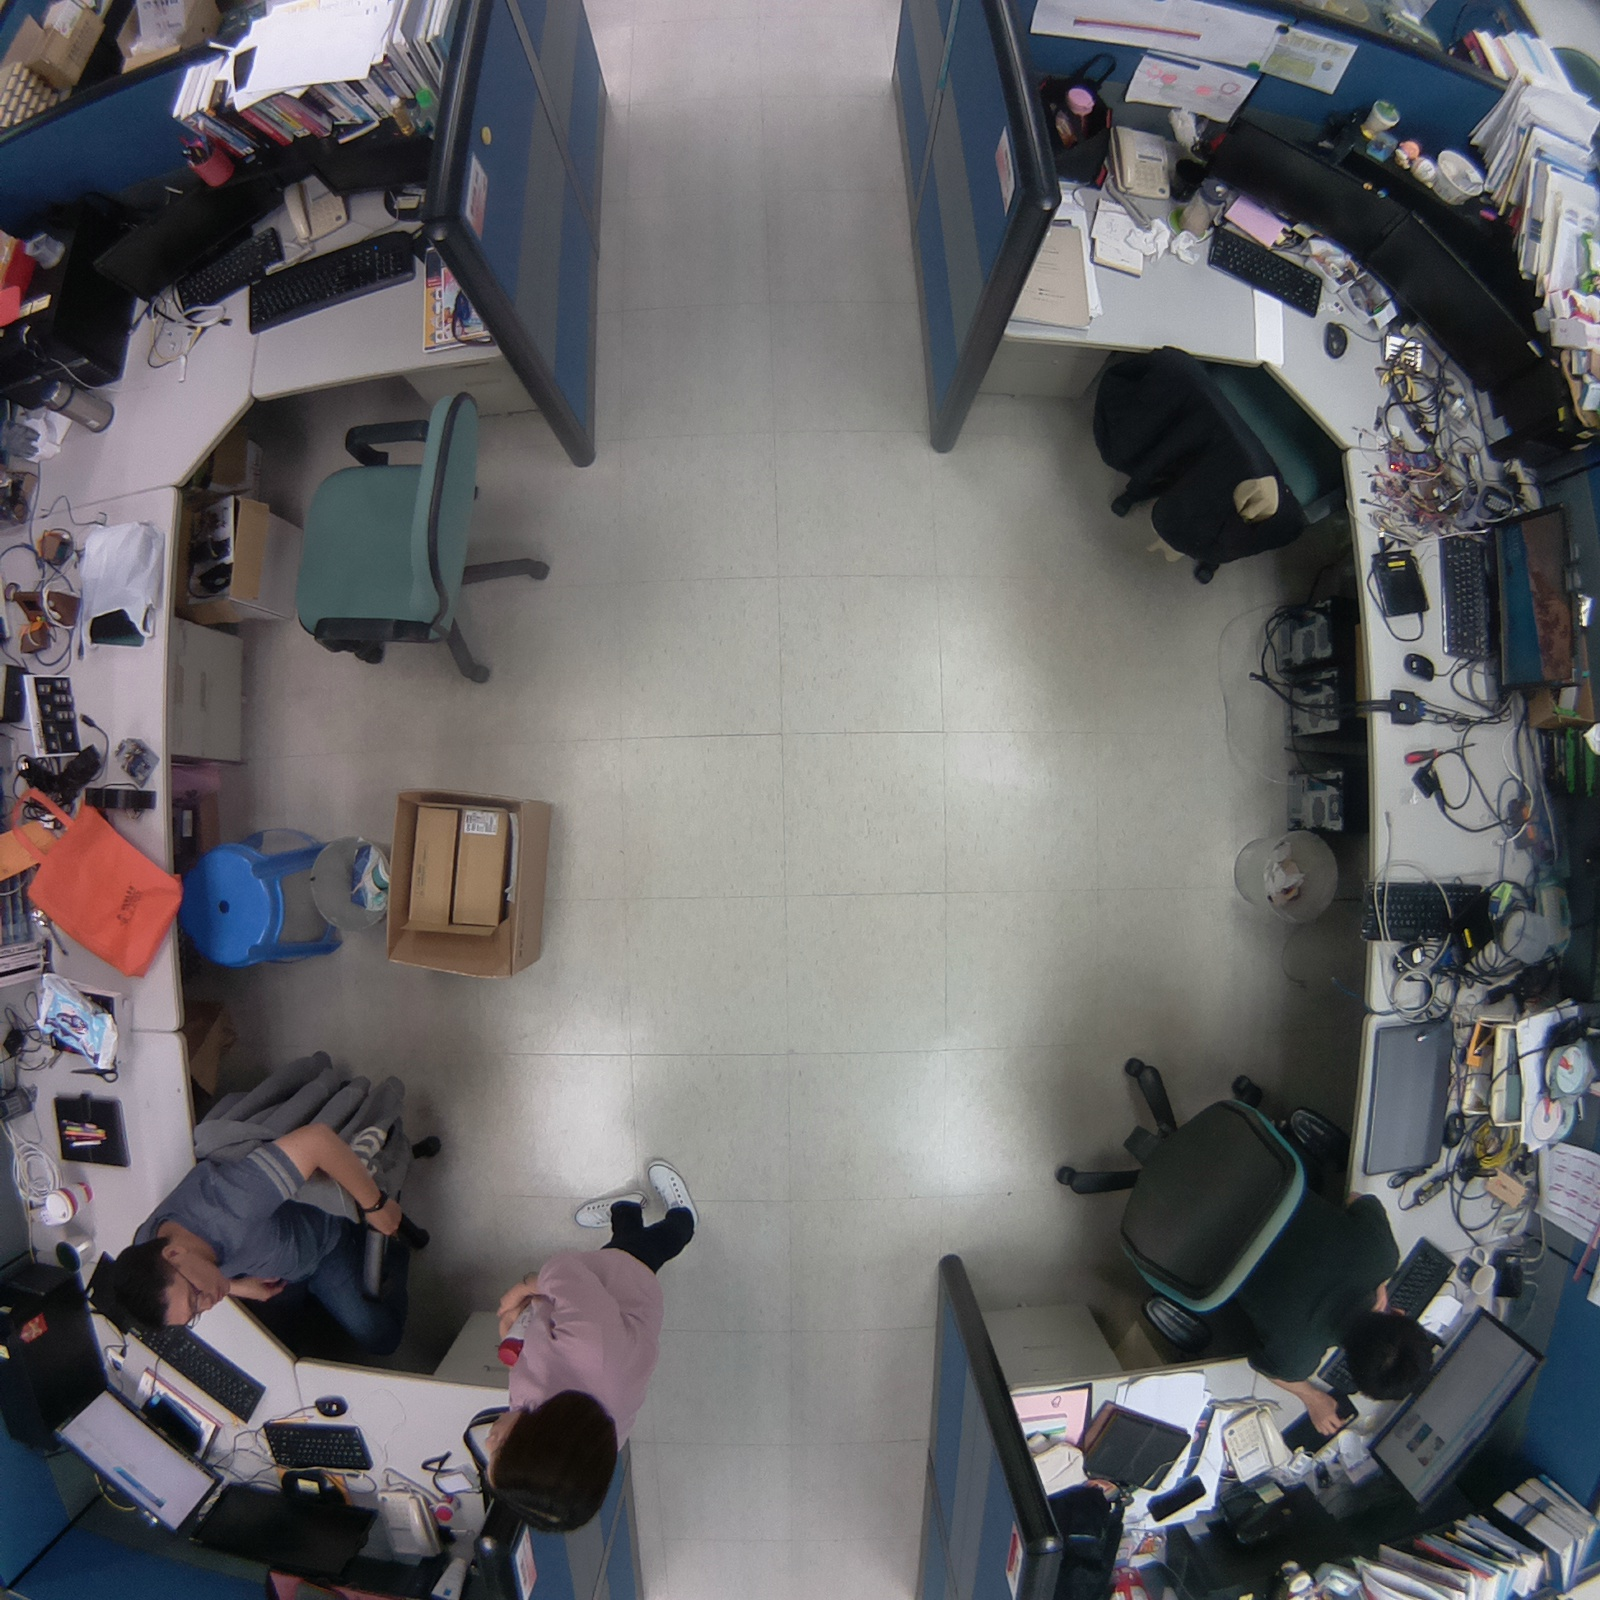chair: (265, 373, 570, 706), (1078, 324, 1368, 596)
head: (472, 1382, 621, 1539), (84, 1231, 235, 1339), (1337, 1306, 1448, 1408)
sitting: (1047, 1040, 1440, 1441), (80, 1022, 468, 1354)
standing: (463, 1147, 715, 1535)
